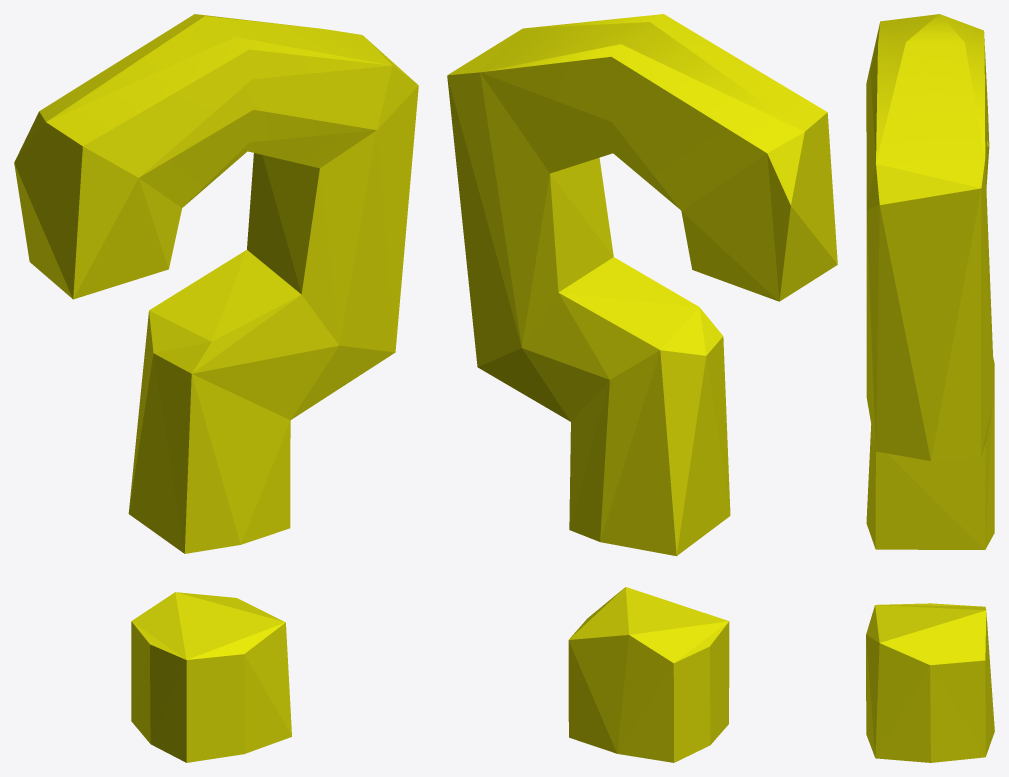
Rendered from SM_PolygonPrototype_Icon_Letter_Question_01.glb.
3 views of the same model, side by side, from view 1: azimuth 30°, elevation 25°; view 2: azimuth 150°, elevation 25°; view 3: azimuth 270°, elevation 25° (orthographic).
Visible parts, largest first — view 1: SM_PolygonPrototype_Icon_Letter_Question_01; view 2: SM_PolygonPrototype_Icon_Letter_Question_01; view 3: SM_PolygonPrototype_Icon_Letter_Question_01.
Part boxes in pixels (box(x1,y1,x2,y2)): SM_PolygonPrototype_Icon_Letter_Question_01: box(14, 14, 418, 762); SM_PolygonPrototype_Icon_Letter_Question_01: box(447, 14, 837, 762); SM_PolygonPrototype_Icon_Letter_Question_01: box(866, 14, 994, 762).
Size of the model in its own units: 0.3576 by 0.6802 by 0.1139.
1 material, 1 textured.
